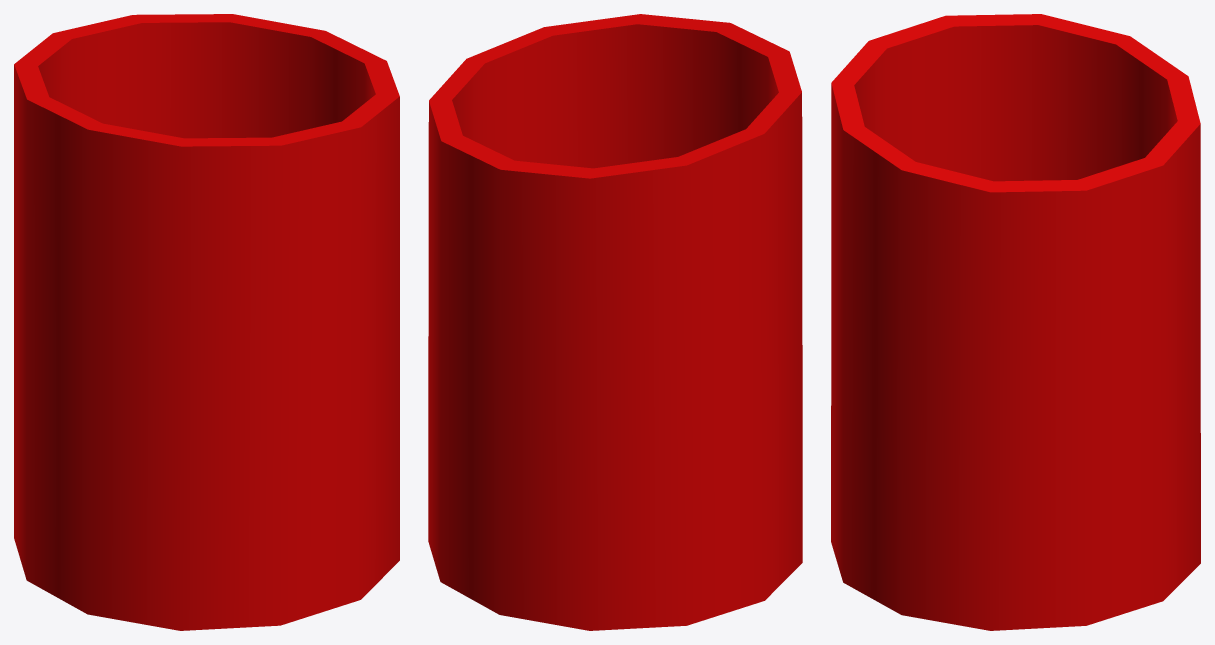
Rendered from Candle_3.fbx.
3 renders of one model, left to right at view 1: azimuth 30°, elevation 25°; view 2: azimuth 150°, elevation 25°; view 3: azimuth 270°, elevation 25°, orthographic. The views are drawn at different scales.
Parts seen in each view (by area): view 1: Candle_3; view 2: Candle_3; view 3: Candle_3.
Boxes of the visible parts, x1,y1,x2,y2 form: Candle_3: (14, 14, 399, 630); Candle_3: (428, 14, 802, 630); Candle_3: (831, 14, 1200, 630).
Size of the model in its own units: 12.96 by 17.95 by 12.96.
